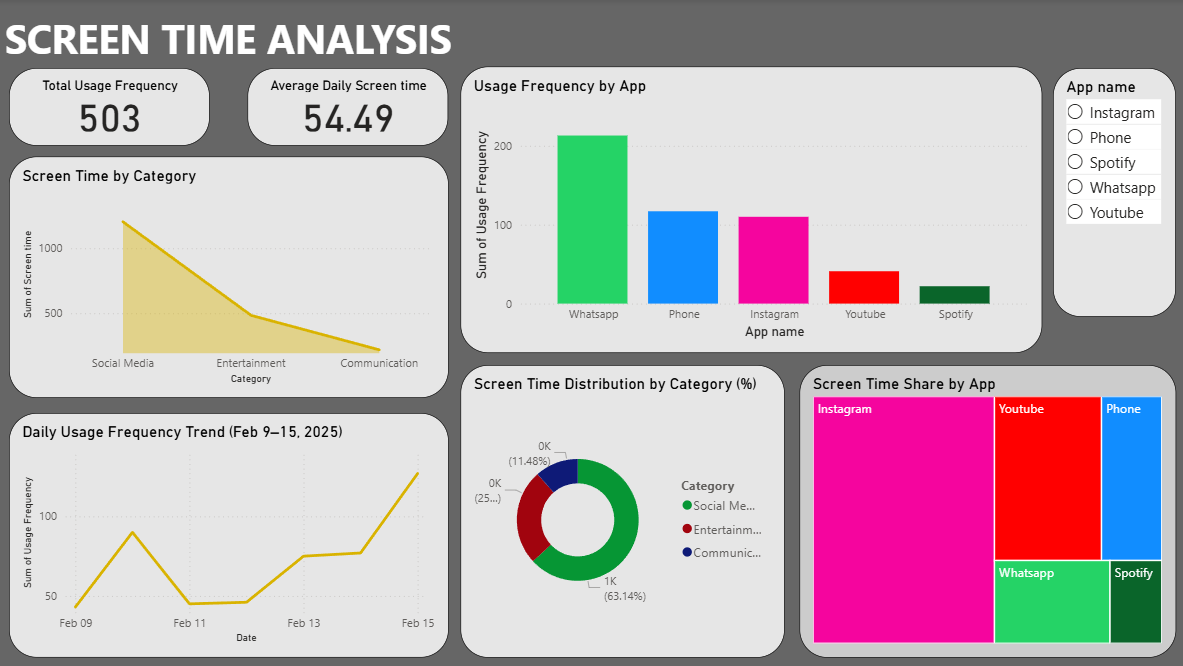

The dashboard page shown, as its layout file describes it:
{"tool":"powerbi","page":{"name":"Page 1","canvas":[1280,720],"ordinal":0},"visuals":[{"type":"lineChart","fields":{"Category":["Table 1 (Sheet1).Date"],"Y":["Sum(Table 1 (Sheet1).Usage Frequency)"]},"box":[9.7,446.9,474.4,263.9],"z":0},{"type":"clusteredColumnChart","fields":{"Category":["Table 1 (Sheet1).App name"],"Y":["Sum(Table 1 (Sheet1).Usage Frequency)"]},"box":[497.1,72.9,631.5,270.4],"z":1000},{"type":"card","title":"Average Screen time","fields":{"Values":["Avg(Table 1 (Sheet1).Screen time)"]},"box":[267.2,74.5,217,103.6],"z":2000},{"type":"listSlicer","fields":{"Values":["Table 1 (Sheet1).App name"]},"box":[1139.9,74.5,129.5,268.8],"z":3000},{"type":"areaChart","fields":{"Category":["Table 1 (Sheet1).Category"],"Y":["Sum(Table 1 (Sheet1).Screen time)"]},"box":[9.7,184.6,474.4,246.1],"z":4000},{"type":"treemap","fields":{"Details":["Table 1 (Sheet1).App name"],"Values":["Sum(Table 1 (Sheet1).Screen time)"]},"box":[863,359.5,406.4,351.4],"z":5000},{"type":"card","title":"Total Usage Frequency","fields":{"Values":["Sum(Table 1 (Sheet1).Usage Frequency)"]},"box":[9.7,74.5,217,103.6],"z":6000},{"type":"textbox","box":[0,8.1,497.1,66.4],"z":7000},{"type":"donutChart","title":"Percentage of Total Screen time ","fields":{"Y":["Sum(Table 1 (Sheet1).Screen time)"],"Category":["Table 1 (Sheet1).Category"]},"box":[497.1,359.5,349.8,351.4],"z":8000}]}

Visuals, with their boxes in screenshot pixels (x1, y1, x2, y2), scaled from the page's 1280x720 canvas onto the 1183x666 screenshot:
lineChart - Table 1 (Sheet1).Date x Sum(Table 1 (Sheet1).Usage Frequency): select_region(9, 413, 447, 657)
clusteredColumnChart - Table 1 (Sheet1).App name x Sum(Table 1 (Sheet1).Usage Frequency): select_region(459, 67, 1043, 318)
"Average Screen time" card: select_region(247, 69, 448, 165)
listSlicer - Table 1 (Sheet1).App name: select_region(1054, 69, 1173, 318)
areaChart - Table 1 (Sheet1).Category x Sum(Table 1 (Sheet1).Screen time): select_region(9, 171, 447, 398)
treemap - Table 1 (Sheet1).App name x Sum(Table 1 (Sheet1).Screen time): select_region(798, 333, 1173, 658)
"Total Usage Frequency" card: select_region(9, 69, 210, 165)
textbox: select_region(0, 7, 459, 69)
"Percentage of Total Screen time " donutChart: select_region(459, 333, 783, 658)
